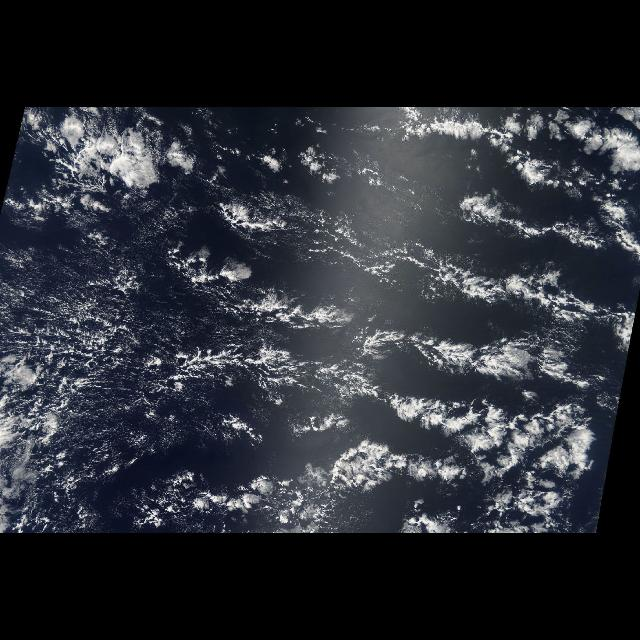Fish: (1, 107, 639, 533)
Gravel: (1, 247, 155, 528)
Sugar: (32, 126, 578, 514)
